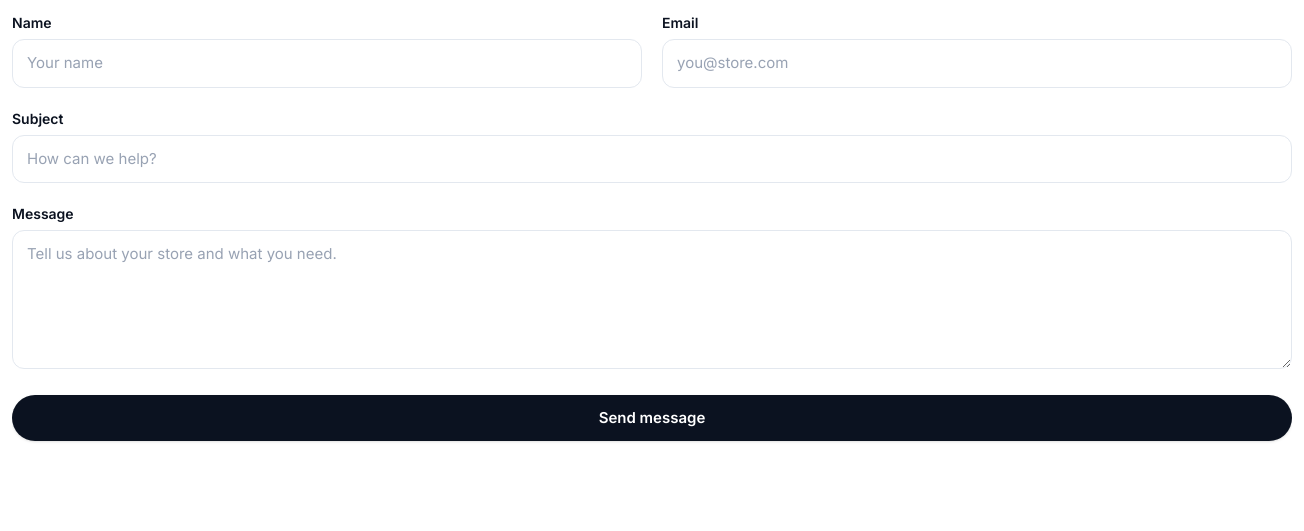
ContactForm › associates the name field's error with its input via aria-describedby
The image size is (1304, 531).
Click the button "Send message" at (652, 418), box [12,394,1292,441]
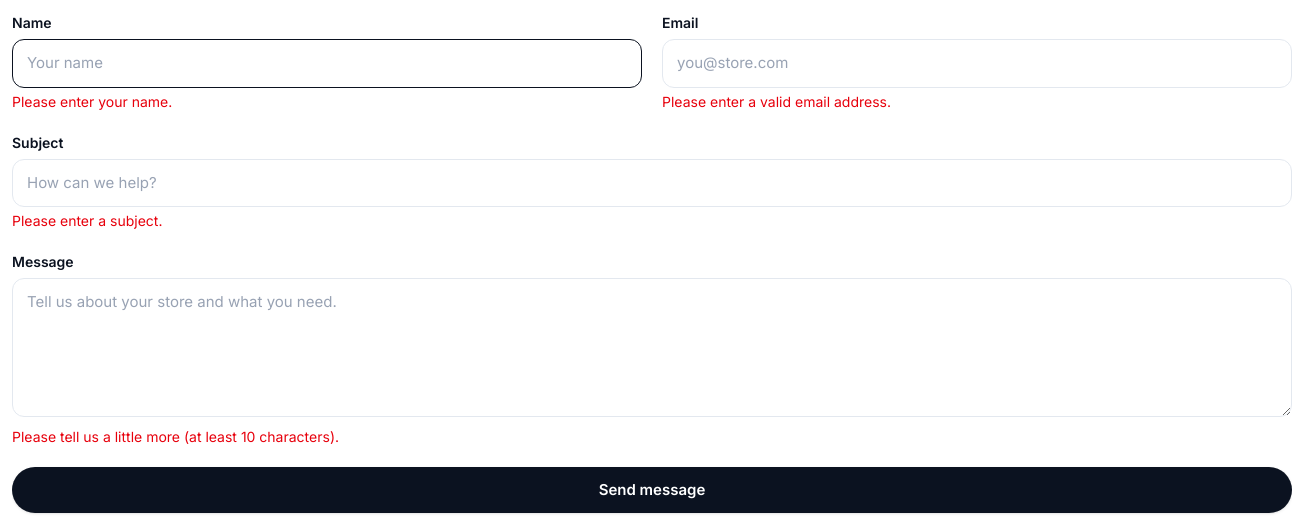
Result: the message with id "name-error" shows "Please enter your name" at [12,92,172,110]
